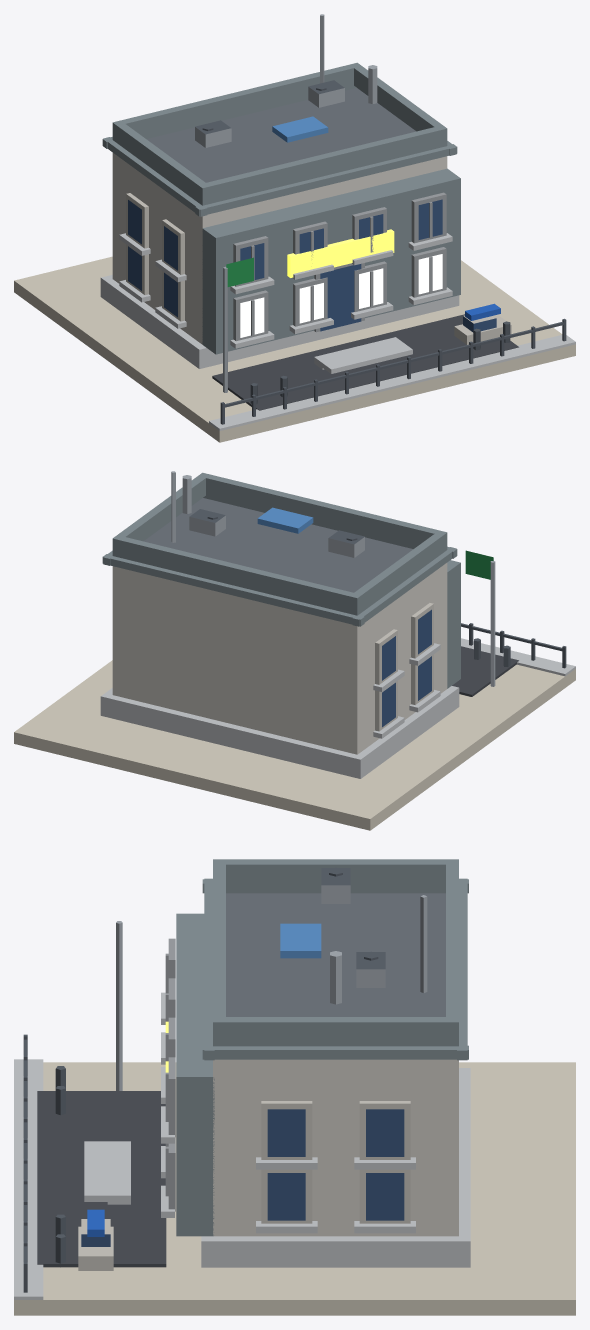
3 views of the same model, one above another, from view 1: azimuth 30°, elevation 25°; view 2: azimuth 150°, elevation 25°; view 3: azimuth 270°, elevation 25° (orthographic). The views are drawn at different scales.
Parts seen in each view (by area): view 1: b24_v2; view 2: b24_v2; view 3: b24_v2.
Boxes of the visible parts, x1,y1,x2,y2 form: b24_v2: [14, 14, 575, 442]; b24_v2: [14, 471, 575, 830]; b24_v2: [14, 859, 575, 1315].
Bounding box in the file's own units: 0.96 × 0.66 × 0.96.
